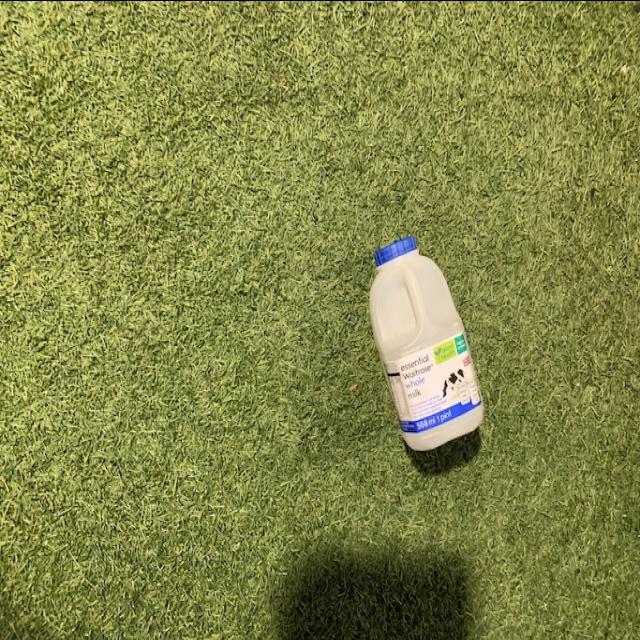HDPEM: (365, 233, 489, 452)
